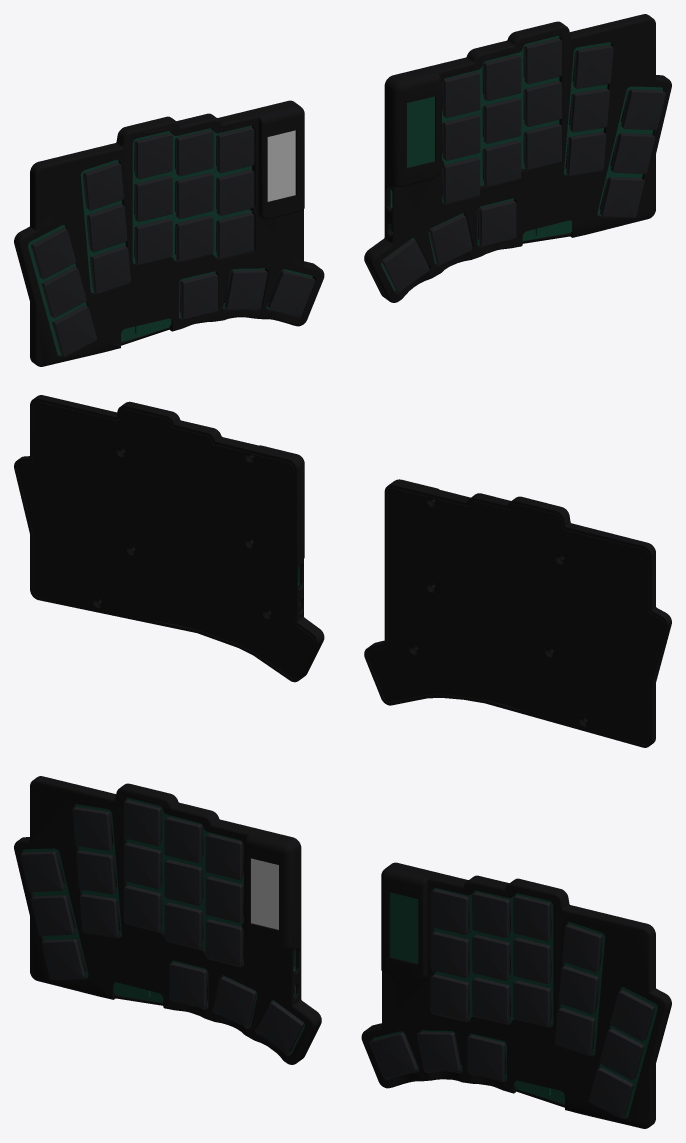
File: wafer_demo-23a1608b.glb
The picture shows the model from 3 angles, top to bottom: view 1: azimuth 30°, elevation 25°; view 2: azimuth 150°, elevation 25°; view 3: azimuth 330°, elevation 25°; orthographic projection.
Parts seen in each view (by area): view 1: case_L, case_R, pcb_R, pcb_L, display, key_L_r2c4, key_R_r2c3, key_R_r1c3, key_R_r1c4, key_R_r2c4, key_L_r0c4, key_L_r1c4 (+31 smaller); view 2: plate_L, plate_R, case_R, case_L; view 3: case_R, case_L, pcb_R, pcb_L, display, key_L_r2c3, key_R_r2c4, key_L_r1c4, key_L_r2c4, key_L_r0c3, key_L_r1c3, key_R_r0c4 (+31 smaller).
Boxes of the visible parts, x1,y1,x2,y2 form: case_L: [14, 100, 324, 366]; case_R: [364, 14, 671, 302]; pcb_R: [381, 35, 662, 290]; pcb_L: [28, 125, 312, 355]; display: [267, 130, 295, 201]; key_L_r2c4: [216, 212, 254, 258]; key_R_r2c3: [483, 140, 521, 186]; key_R_r1c3: [483, 97, 521, 143]; key_R_r1c4: [442, 114, 480, 160]; key_R_r2c4: [442, 157, 480, 203]; key_L_r0c4: [216, 126, 254, 172]; key_L_r1c4: [216, 169, 254, 215]; plate_L: [367, 488, 664, 744]; plate_R: [17, 401, 314, 678]; case_R: [14, 395, 324, 682]; case_L: [364, 479, 671, 747]; case_R: [361, 862, 671, 1128]; case_L: [14, 776, 321, 1064]; pcb_R: [373, 887, 657, 1117]; pcb_L: [23, 797, 304, 1052]; display: [251, 858, 278, 929]; key_L_r2c3: [164, 902, 202, 948]; key_R_r2c4: [431, 974, 469, 1020]; key_L_r1c4: [205, 876, 243, 922]; key_L_r2c4: [205, 919, 243, 965]; key_L_r0c3: [164, 816, 202, 863]; key_L_r1c3: [164, 859, 202, 905]; key_R_r0c4: [431, 888, 469, 934].
Size of the model in its own units: 0.2799 by 0.0962 by 0.0081.
